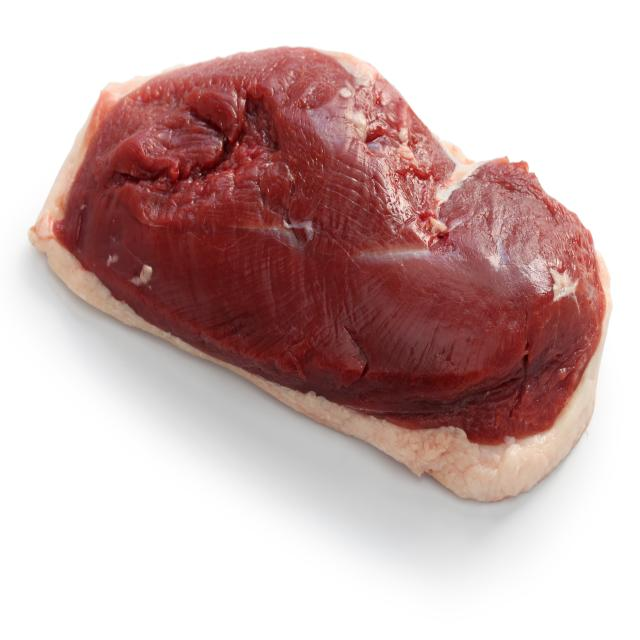beef: (80, 127, 552, 435)
